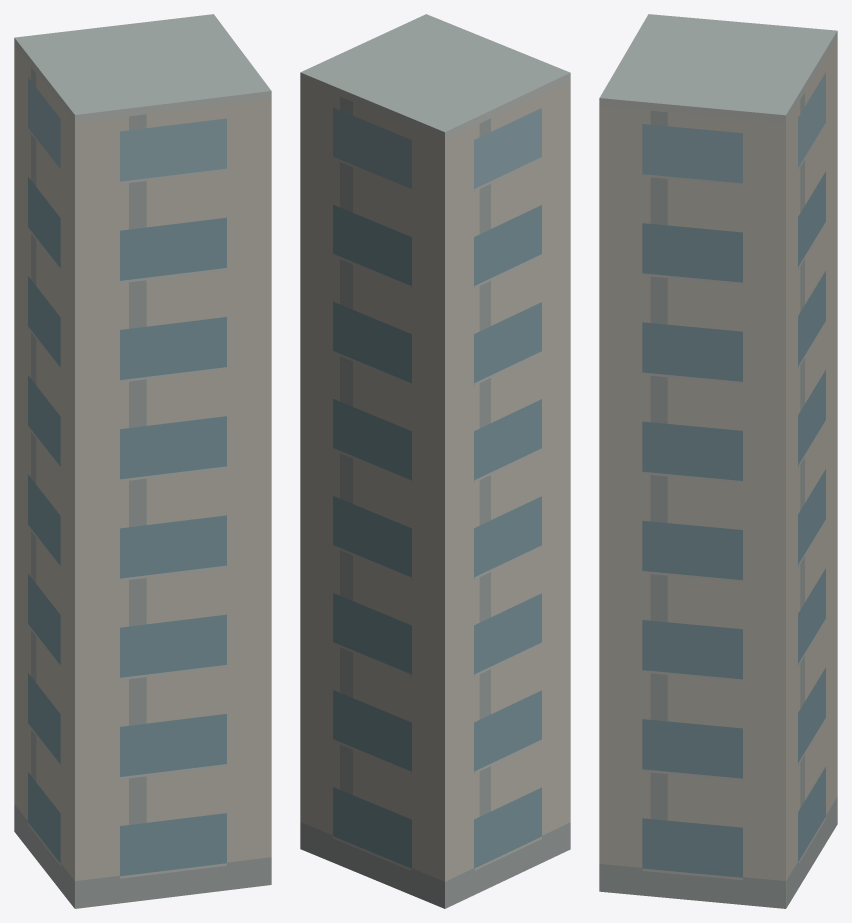
File: survey-upis-32737162.glb
The picture shows the model from 3 angles, left to right: view 1: azimuth 30°, elevation 25°; view 2: azimuth 150°, elevation 25°; view 3: azimuth 270°, elevation 25°; orthographic projection. The views are drawn at different scales.
Visible parts, largest first — view 1: survey-upis-32737162.tmp; view 2: survey-upis-32737162.tmp; view 3: survey-upis-32737162.tmp.
Boxes of the visible parts, x1=… form: survey-upis-32737162.tmp: x1=14, y1=14, x2=271, y2=908; survey-upis-32737162.tmp: x1=300, y1=14, x2=570, y2=908; survey-upis-32737162.tmp: x1=599, y1=14, x2=837, y2=908.
Bounding box in the file's own units: 6.69 × 24.4 × 6.64.
